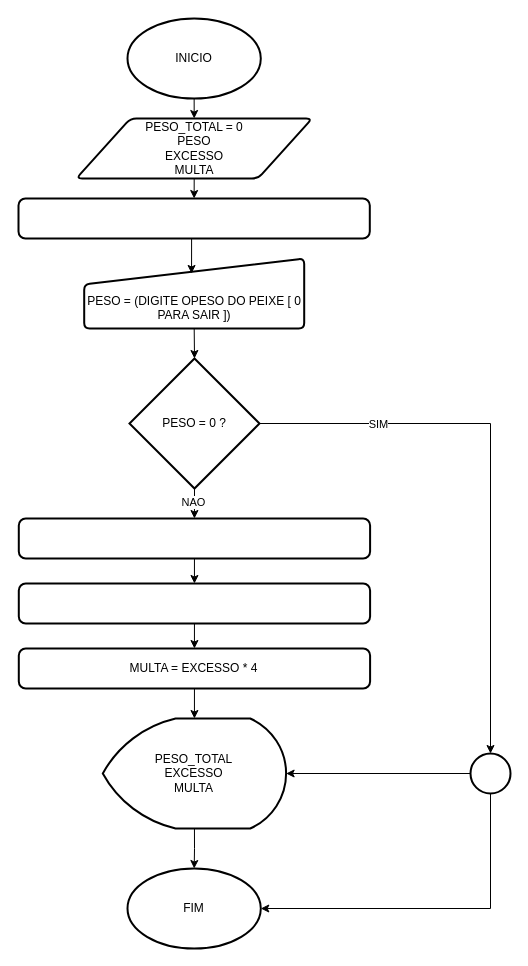
Image size: 528x966. Some labels were removed from this diagram. The shapes that lost their labels are listed below. From the top down, each one's centre as x and y in pixels, then its label:
At [193,218]: "ENQUANTO PESO > 0".
At [194,538]: "PESO_TOTAL = PESO_TOTAL + PESO".
At [194,603]: "EXCESSO = PESO_TOTAL - 50".
